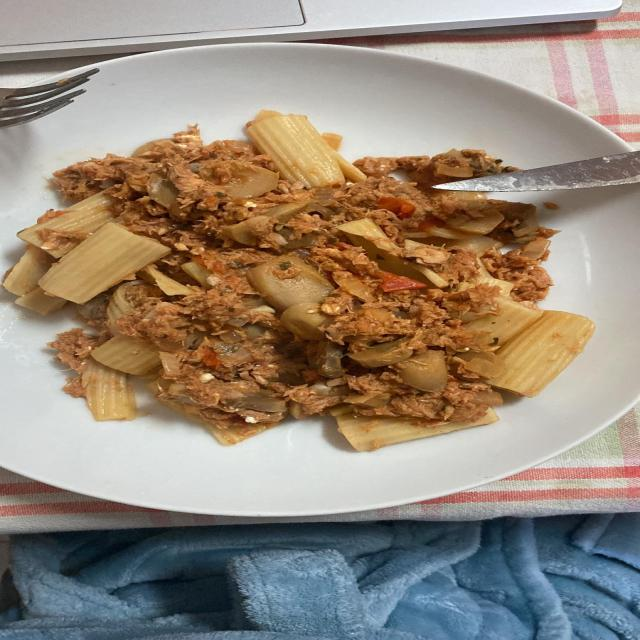fork: (0, 68, 98, 127)
knife: (435, 151, 639, 192)
pasta: (2, 191, 169, 314), (470, 280, 594, 398), (246, 110, 366, 188), (340, 220, 447, 288), (336, 410, 498, 452), (82, 338, 159, 421)
plate: (0, 44, 639, 516)
tuna with mushrooms: (54, 126, 551, 434)
